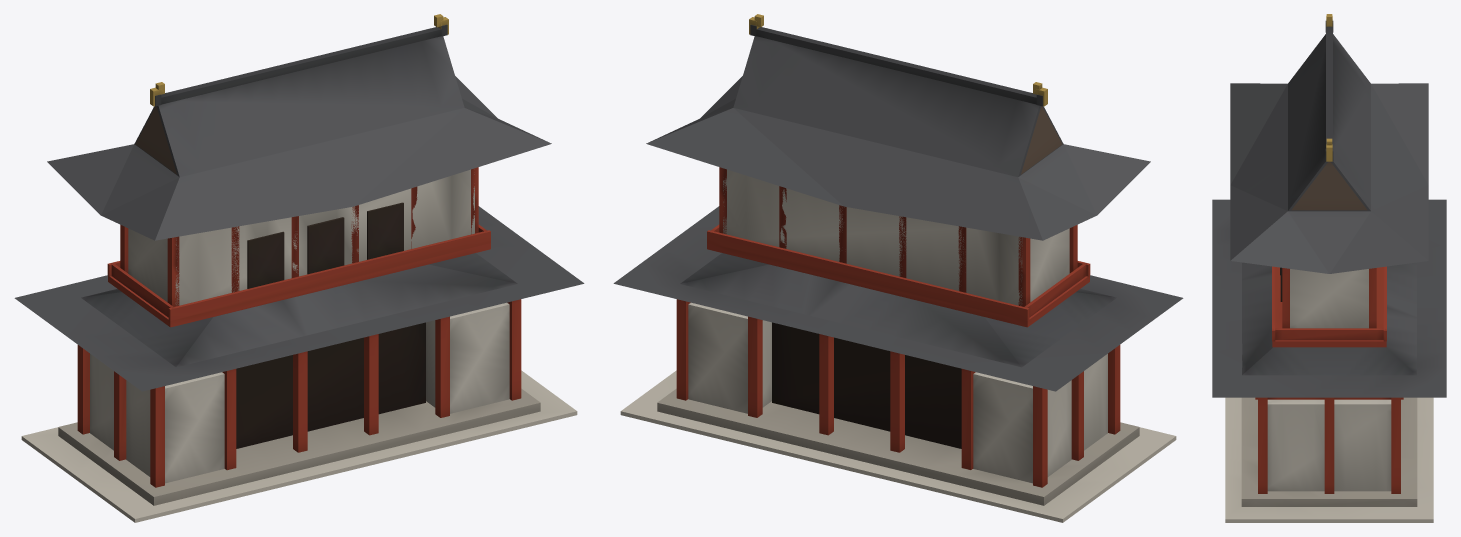
The model's file is nandaimon-752.glb.
The picture shows the model from 3 angles, left to right: view 1: azimuth 30°, elevation 25°; view 2: azimuth 150°, elevation 25°; view 3: azimuth 270°, elevation 25°; orthographic projection. The views are drawn at different scales.
Parts seen in each view (by area): view 1: p2_roofs, p1_halls, p0_grounds; view 2: p2_roofs, p1_halls, p0_grounds; view 3: p2_roofs, p1_halls, p0_grounds.
Part boxes in pixels (x1,y1,x2,y2): p2_roofs: (14, 14, 584, 391); p1_halls: (58, 167, 540, 505); p0_grounds: (21, 370, 577, 522); p2_roofs: (613, 14, 1183, 391); p1_halls: (657, 167, 1139, 505); p0_grounds: (620, 370, 1176, 522); p2_roofs: (1212, 14, 1446, 397); p1_halls: (1241, 266, 1417, 506); p0_grounds: (1225, 397, 1433, 522).
Size of the model in its own units: 36.04 by 29.4 by 18.04.
